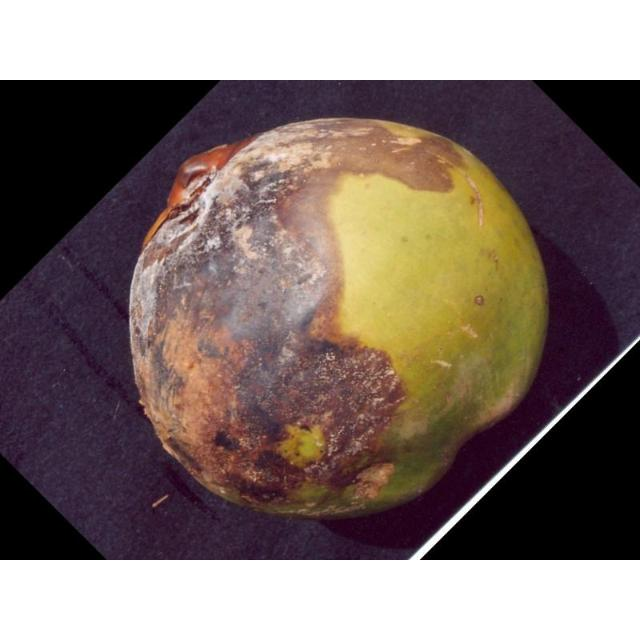damaged: (130, 118, 547, 517)
